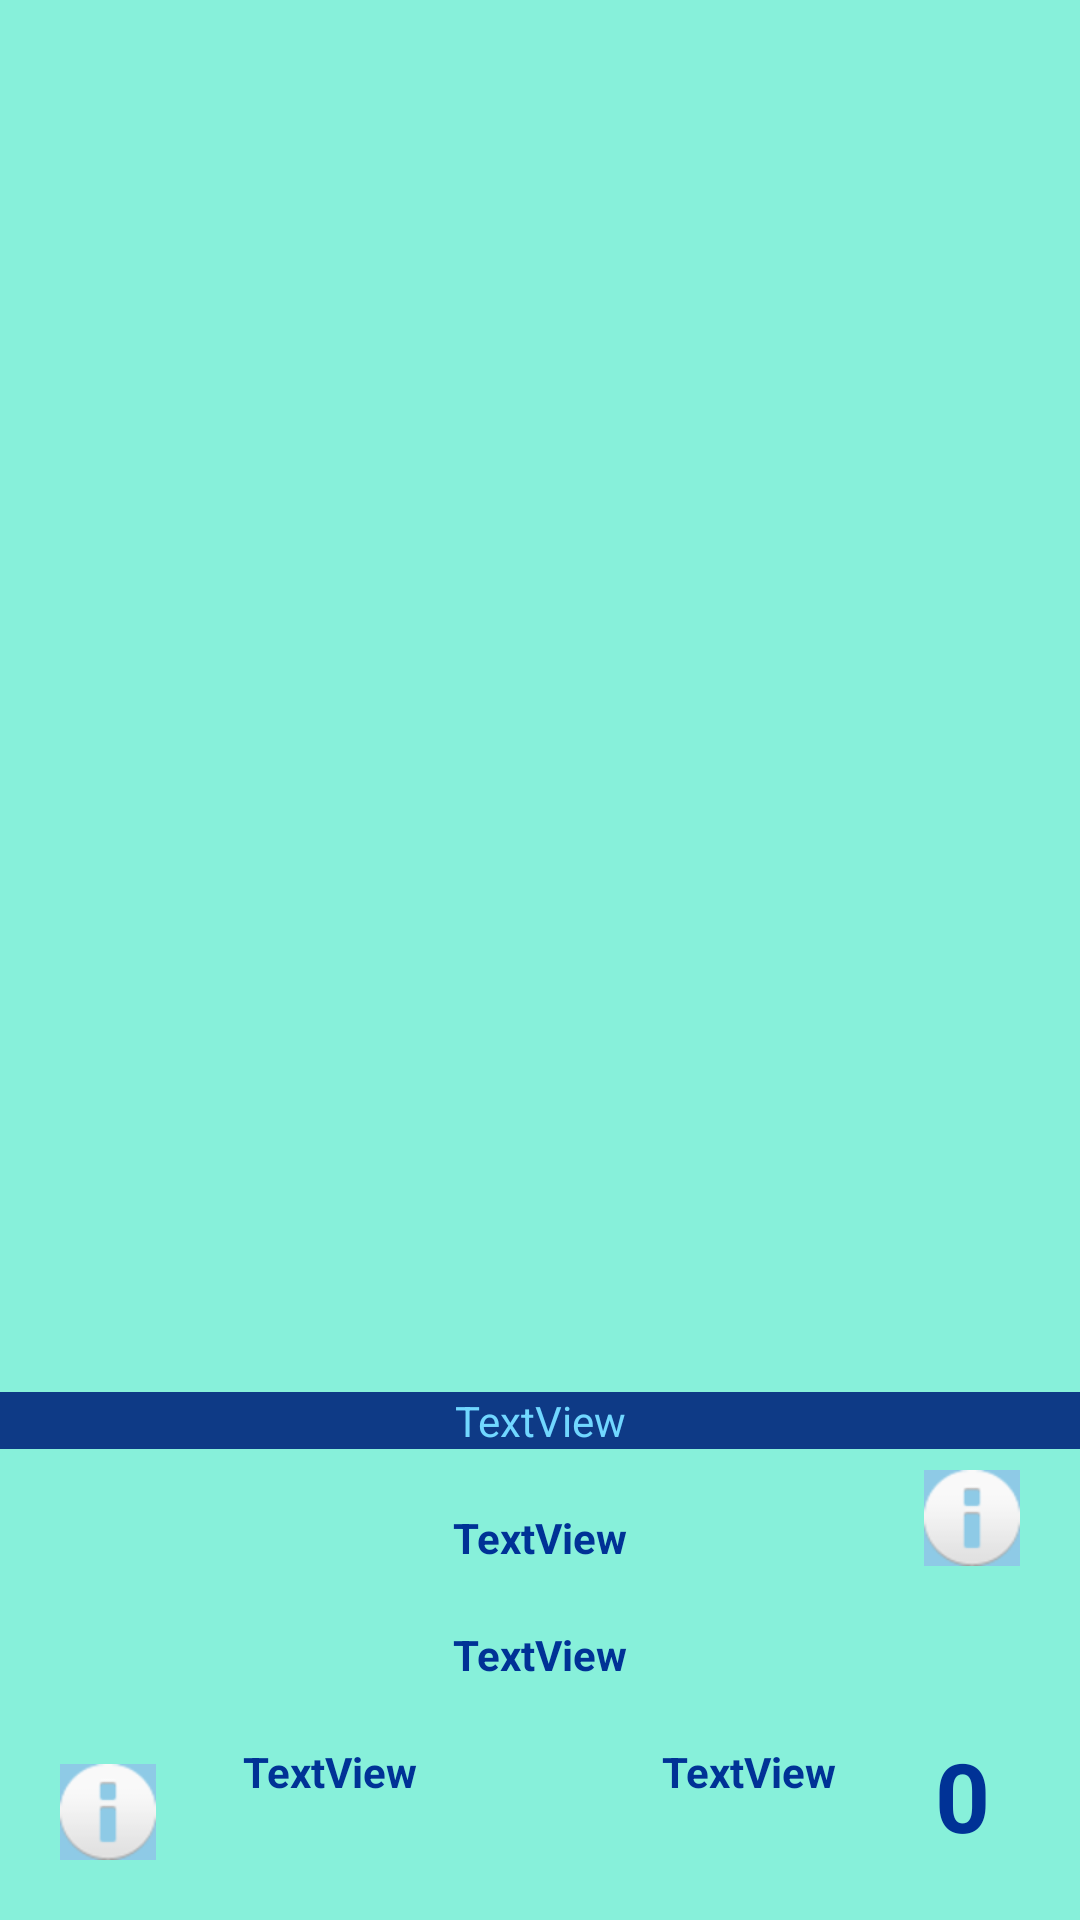

Point at icon controls on the screen. Image size 1080x1920, points as (x,y).
info: (972,1518), (108,1812)
